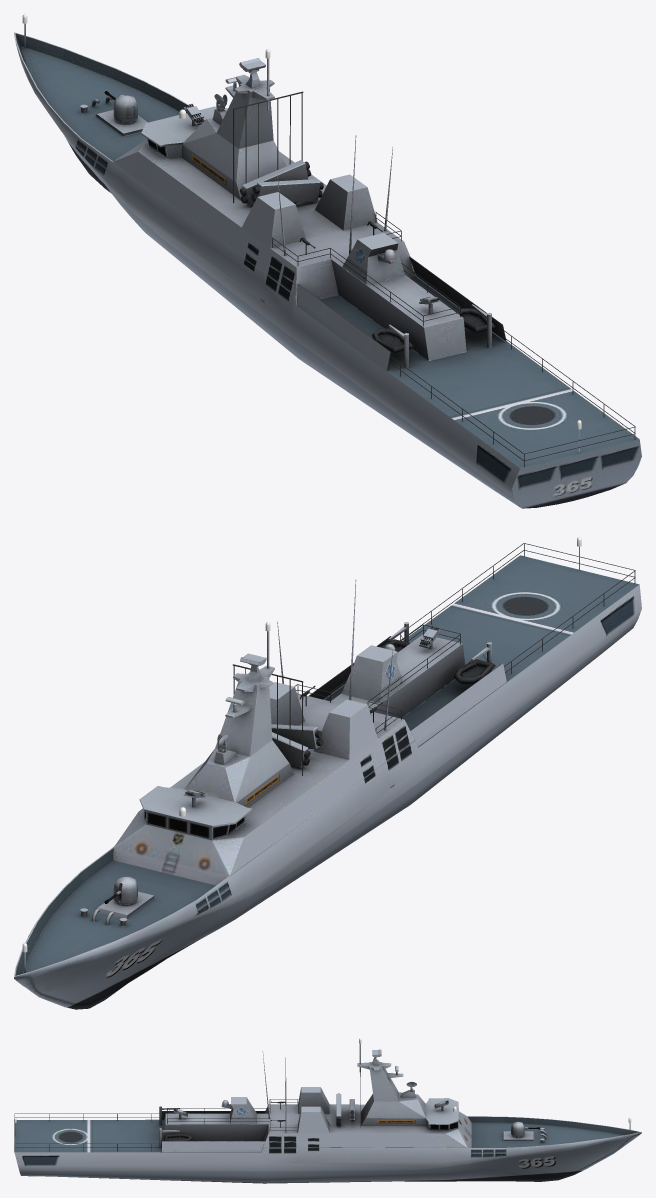
The model's file is Diponegoro.obj.
The picture shows the model from 3 angles, top to bottom: view 1: azimuth 30°, elevation 25°; view 2: azimuth 150°, elevation 25°; view 3: azimuth 270°, elevation 25°; orthographic projection. The views are drawn at different scales.
Visible parts, largest first — view 1: bodi_365, TaliSosok; view 2: bodi_365; view 3: bodi_365.
Part boxes in pixels (x1,y1,x2,y2): bodi_365: [14, 23, 641, 508]; TaliSosok: [233, 91, 303, 203]; bodi_365: [14, 543, 641, 1009]; bodi_365: [14, 1043, 641, 1183].
Bounding box in the file's own units: 17.76 × 33.71 × 134.
